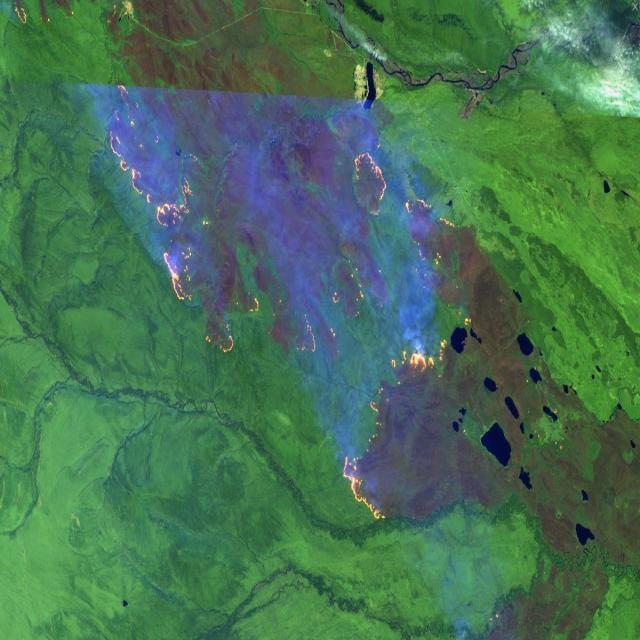fire: (108, 80, 261, 352), (276, 139, 393, 357), (337, 387, 398, 527), (401, 191, 453, 269), (397, 344, 451, 383), (7, 0, 76, 29)
